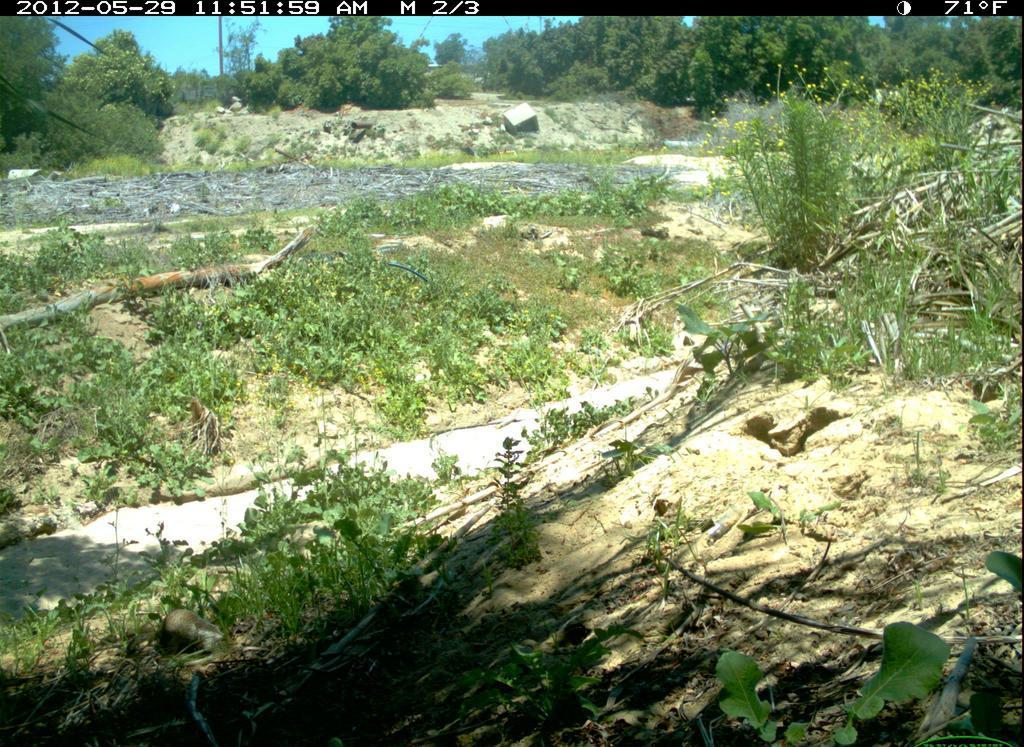squirrel: (124, 596, 249, 676)
